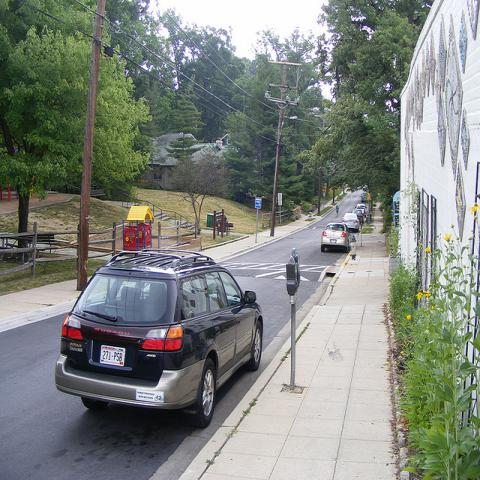car: (53, 242, 267, 424), (321, 222, 351, 253), (342, 212, 360, 231), (352, 209, 364, 223), (356, 204, 366, 213), (361, 193, 366, 202)
